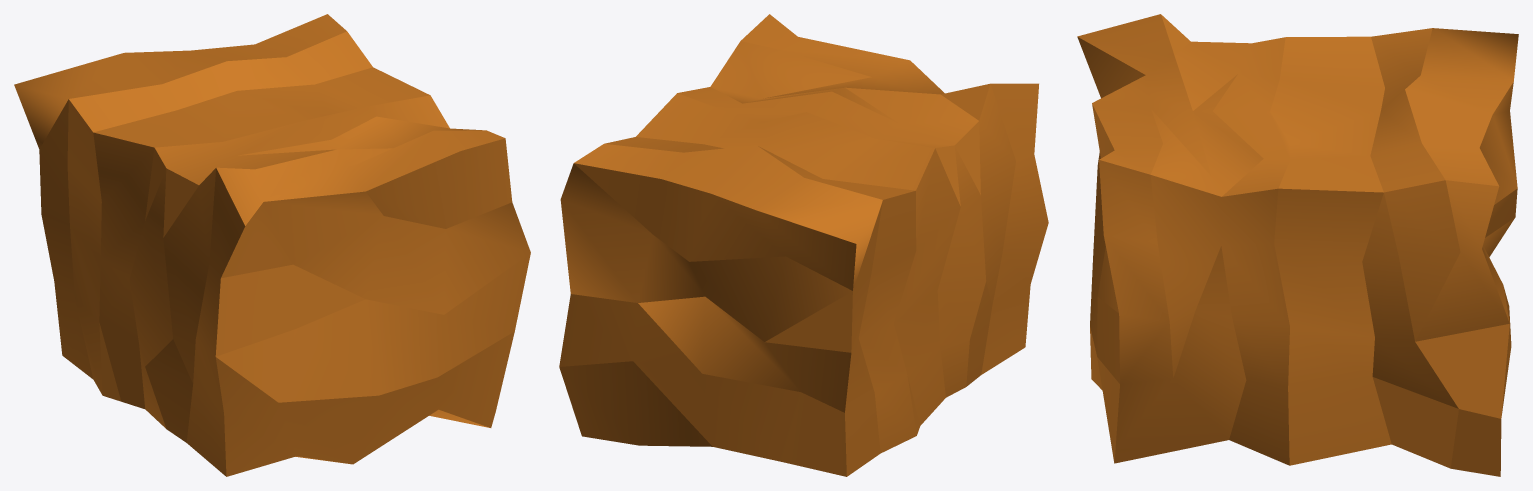
File: Hay_2.fbx
The picture shows the model from 3 angles, left to right: view 1: azimuth 30°, elevation 25°; view 2: azimuth 150°, elevation 25°; view 3: azimuth 270°, elevation 25°; orthographic projection. The views are drawn at different scales.
Visible parts, largest first — view 1: Hay_2; view 2: Hay_2; view 3: Hay_2.
Boxes of the visible parts, x1,y1,x2,y2 form: Hay_2: (14,14,530,476); Hay_2: (559,14,1048,476); Hay_2: (1077,14,1518,476).
Bounding box in the file's own units: 22.47 × 20.87 × 25.16.
